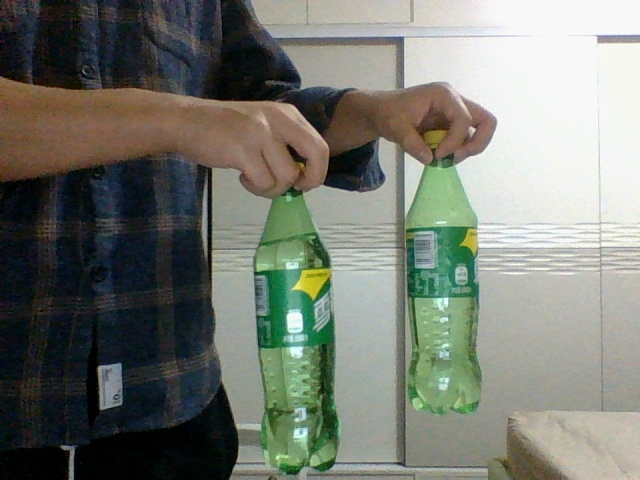Sprite: (253, 168, 336, 473), (406, 130, 482, 414)
